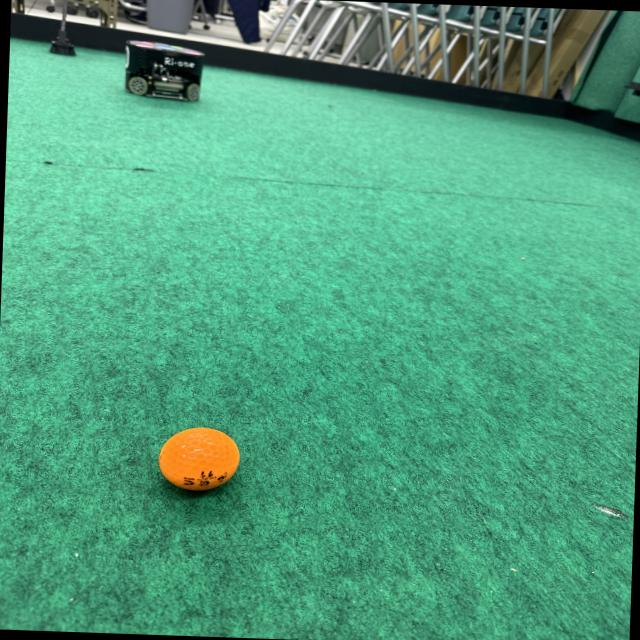ball: (153, 424, 242, 494)
